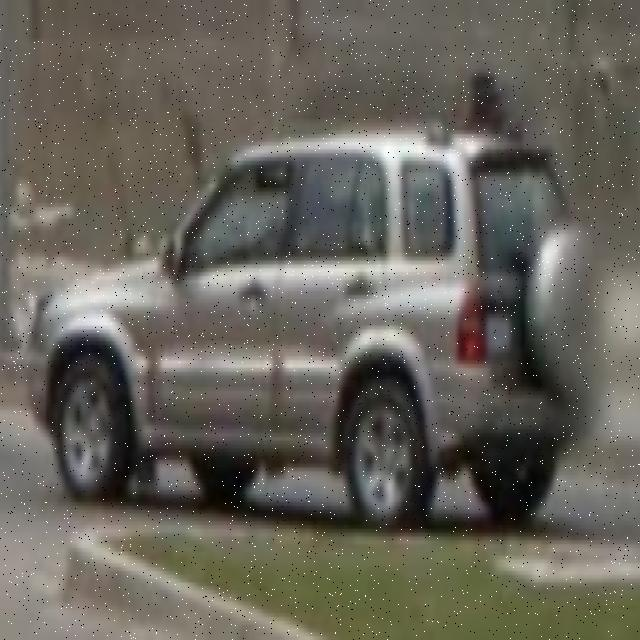cars: (14, 123, 610, 528)
